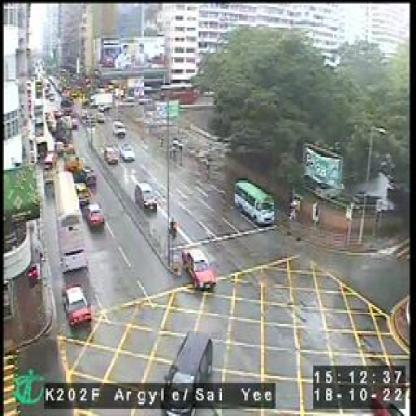Car: (162, 332, 215, 415), (180, 246, 219, 290), (62, 282, 94, 328), (134, 180, 159, 214), (84, 199, 106, 232), (78, 166, 97, 188), (104, 143, 119, 166), (74, 184, 90, 205), (121, 144, 137, 164), (113, 119, 127, 139)
Minibus: (233, 180, 275, 226)
